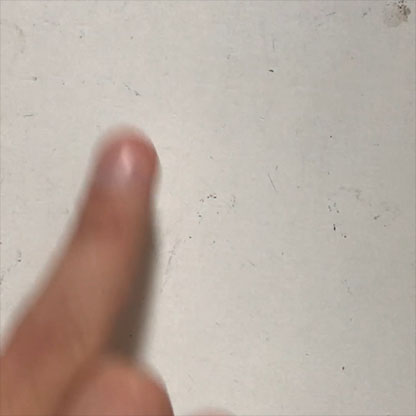fingertip: (85, 123, 164, 205)
